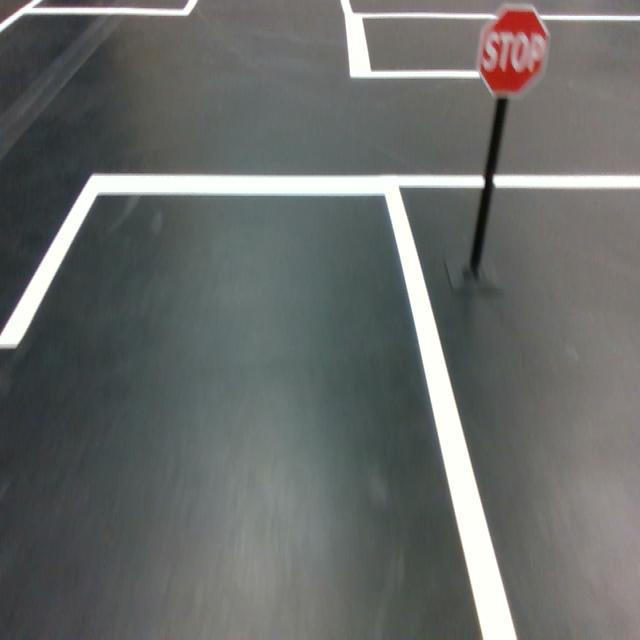stop-sign: (477, 4, 550, 100)
